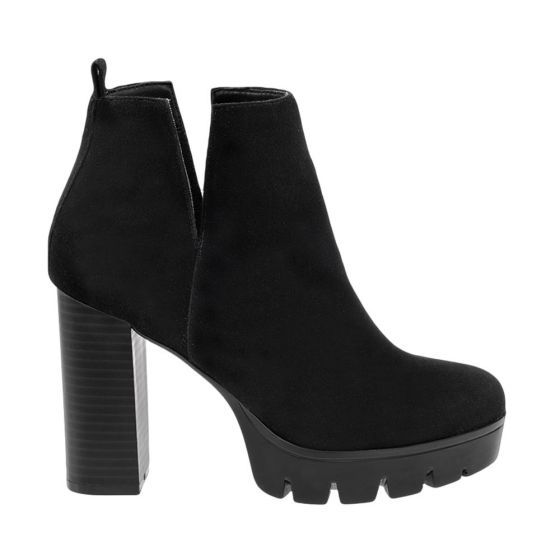gamuza: (48, 80, 505, 453)
